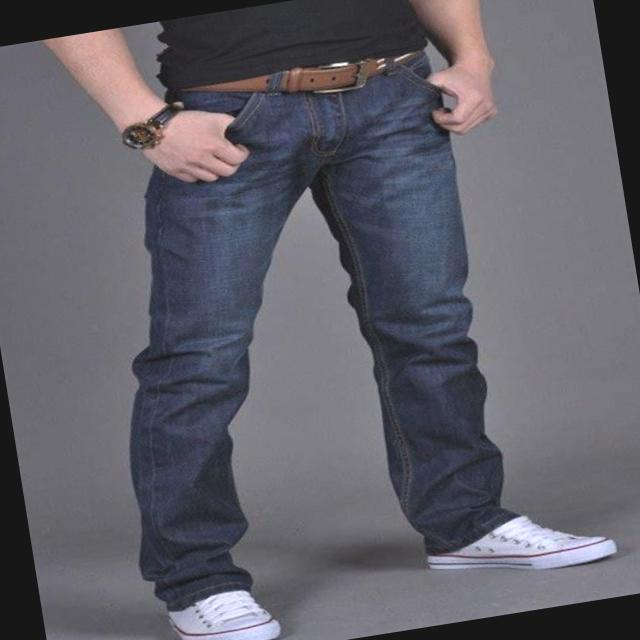pants: (63, 43, 521, 618)
